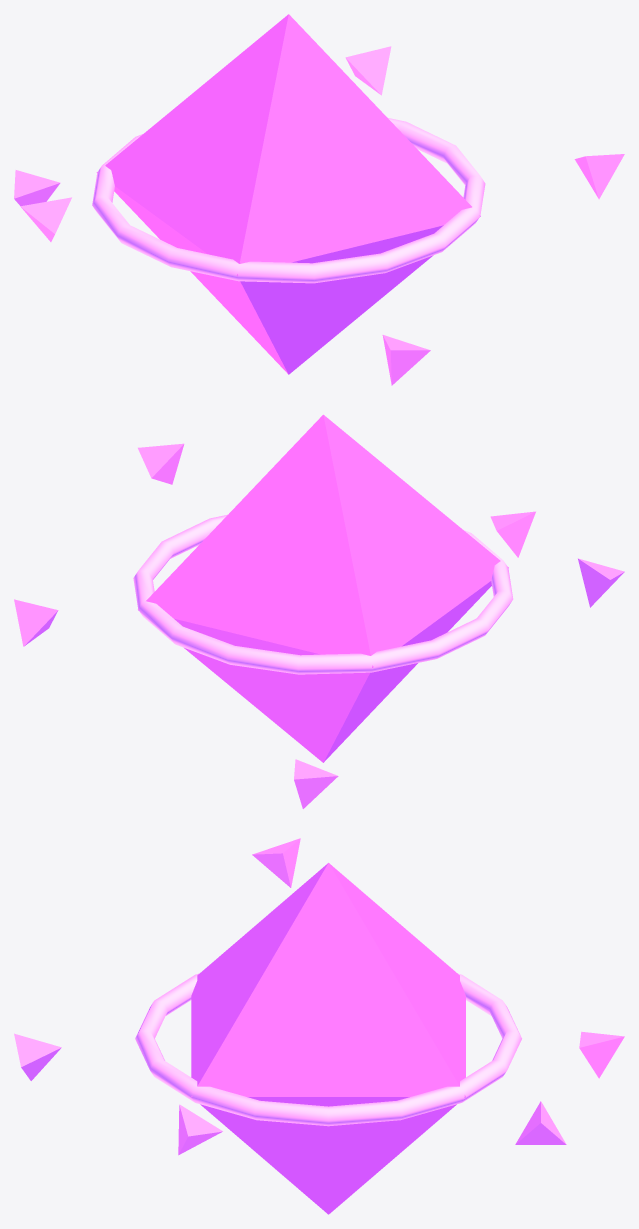
File: gem.glb
The picture shows the model from 3 angles, top to bottom: view 1: azimuth 30°, elevation 25°; view 2: azimuth 150°, elevation 25°; view 3: azimuth 270°, elevation 25°; orthographic projection. The views are drawn at different scales.
Size of the model in its own units: 1.75 by 1.1 by 1.73.
